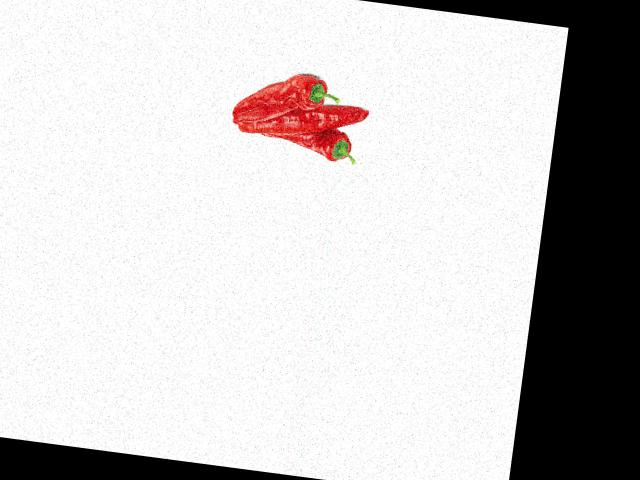bell_pepper: (231, 62, 346, 124)
